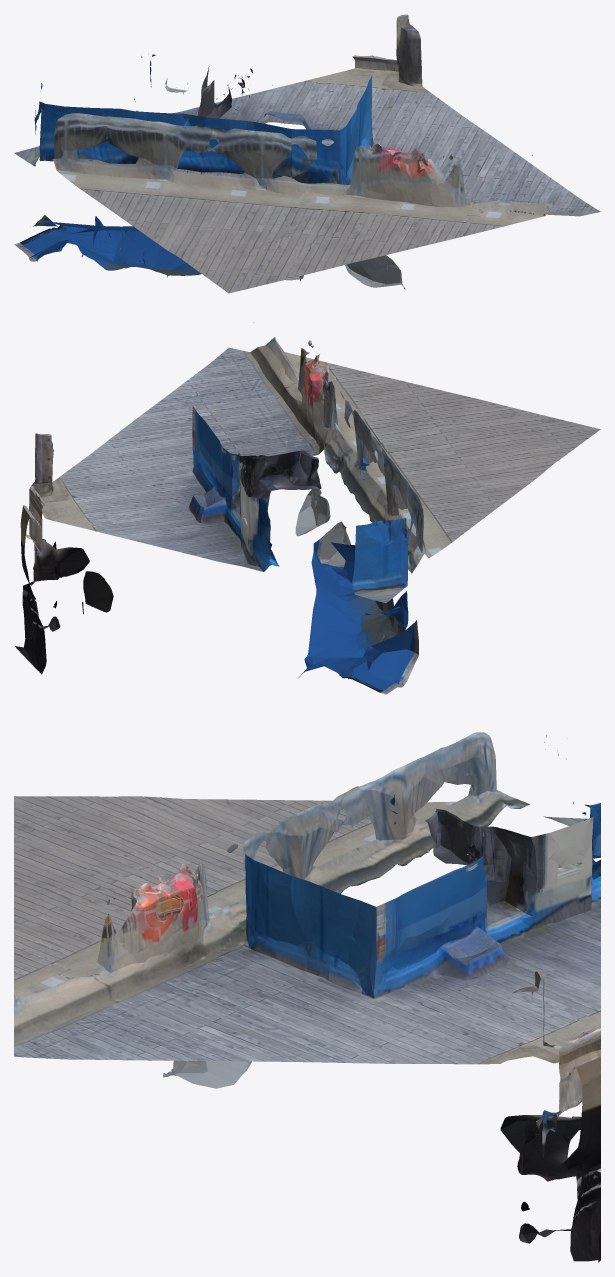
The picture shows the model from 3 angles, top to bottom: view 1: azimuth 30°, elevation 25°; view 2: azimuth 150°, elevation 25°; view 3: azimuth 270°, elevation 25°; orthographic projection. The views are drawn at different scales.
Bounding box in the file's own units: 8.36 × 4.86 × 8.36.
Materials: 5 (5 with a texture image).
